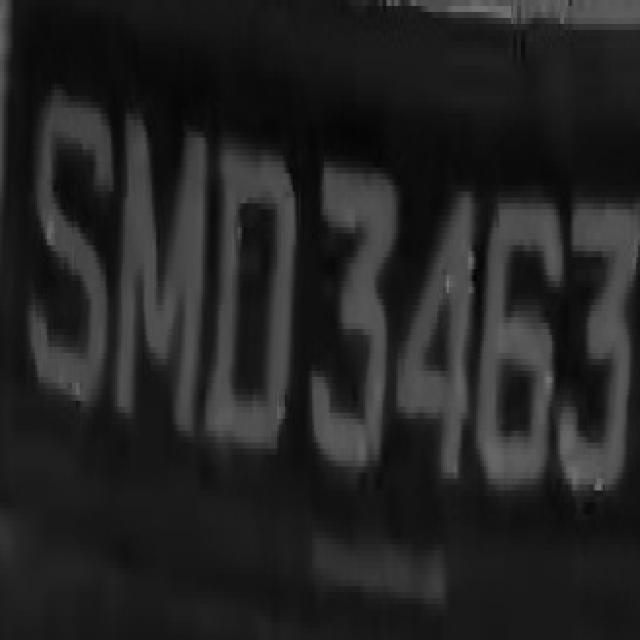3: (302, 120, 392, 502), (562, 144, 636, 526)
4: (388, 102, 478, 502)
6: (478, 126, 560, 526)
D: (205, 95, 296, 472)
M: (113, 60, 207, 490)
S: (23, 48, 112, 448)
